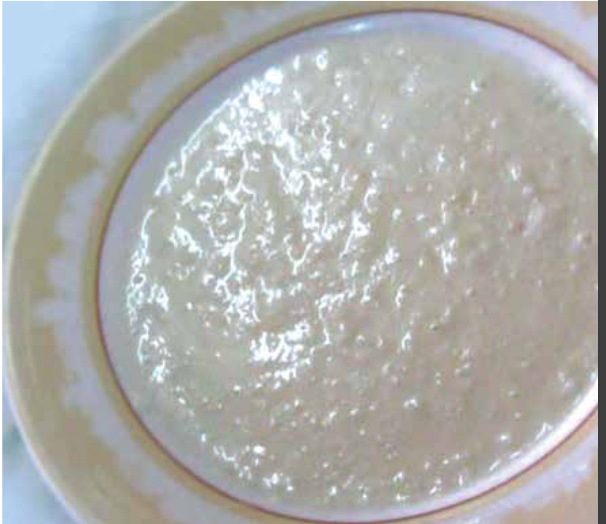baca: (185, 141, 554, 440)
